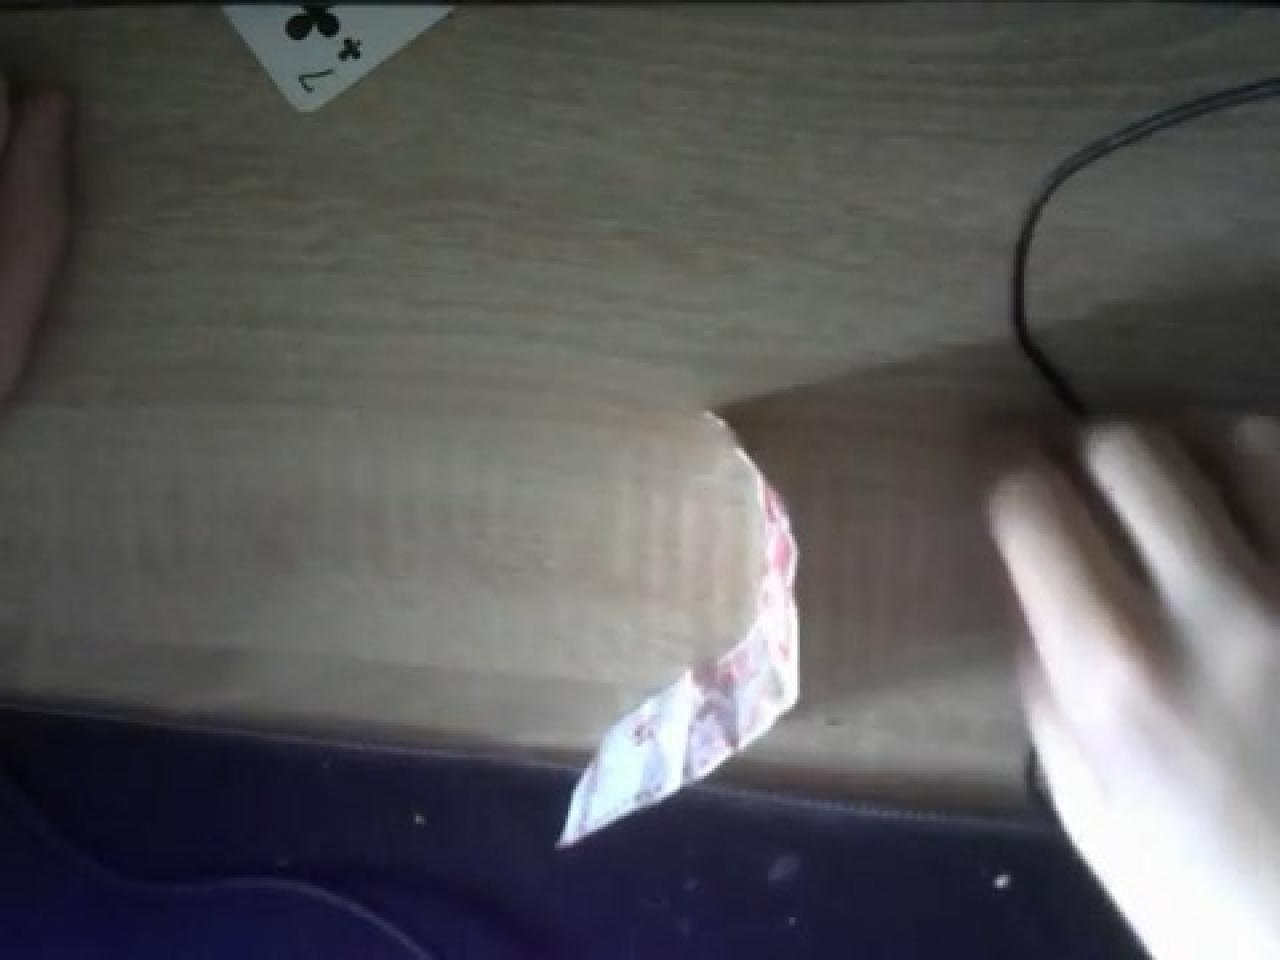5leva: (557, 494, 795, 846)
